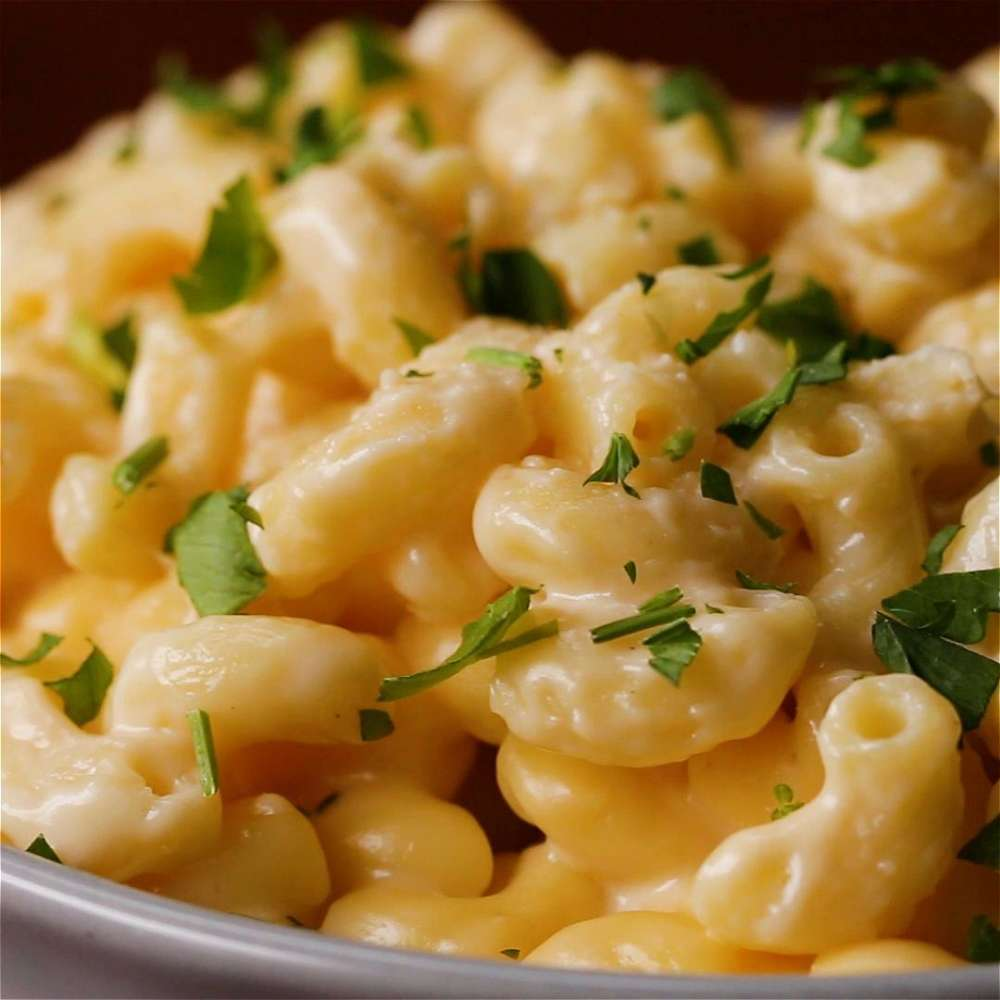macncheese: (42, 68, 936, 1000)
